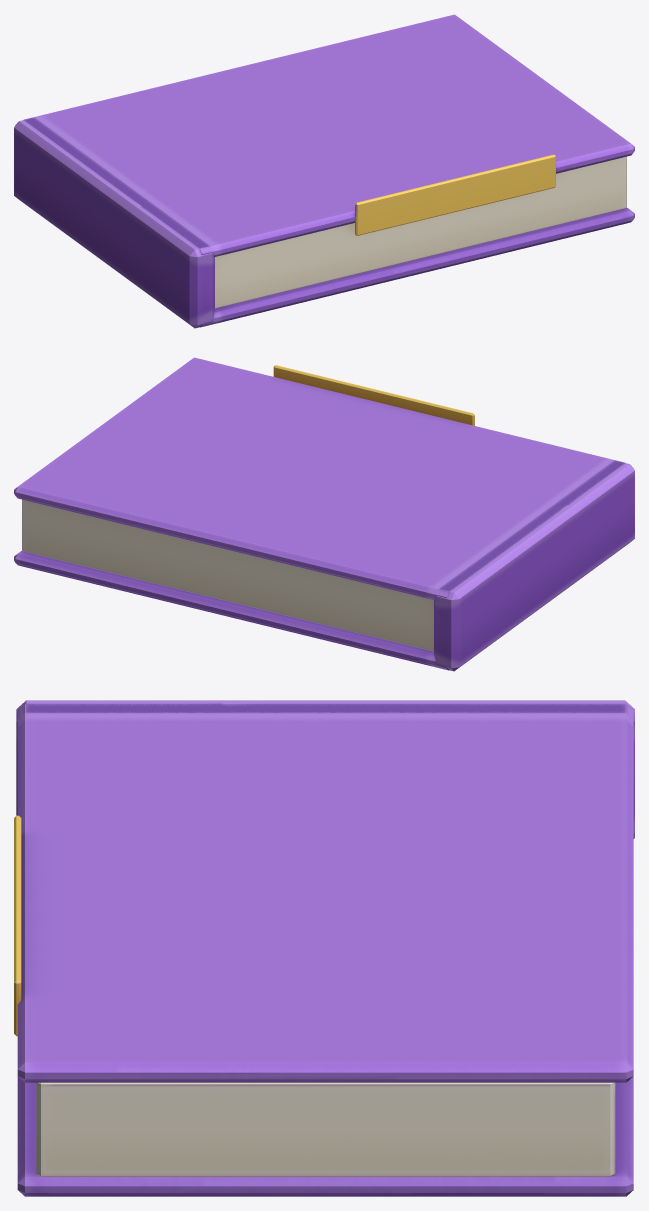
The model's file is toy_book_purple.glb.
3 renders of one model, top to bottom at view 1: azimuth 30°, elevation 25°; view 2: azimuth 150°, elevation 25°; view 3: azimuth 270°, elevation 25°, orthographic. The views are drawn at different scales.
Parts seen in each view (by area): view 1: prop; view 2: prop; view 3: prop.
Part boxes in pixels (x1,y1,x2,y2): prop: (14, 14, 634, 328); prop: (14, 357, 634, 671); prop: (14, 700, 634, 1196).
Bounding box in the file's own units: 7.1 × 1.35 × 5.04.
1 material, 1 textured.
